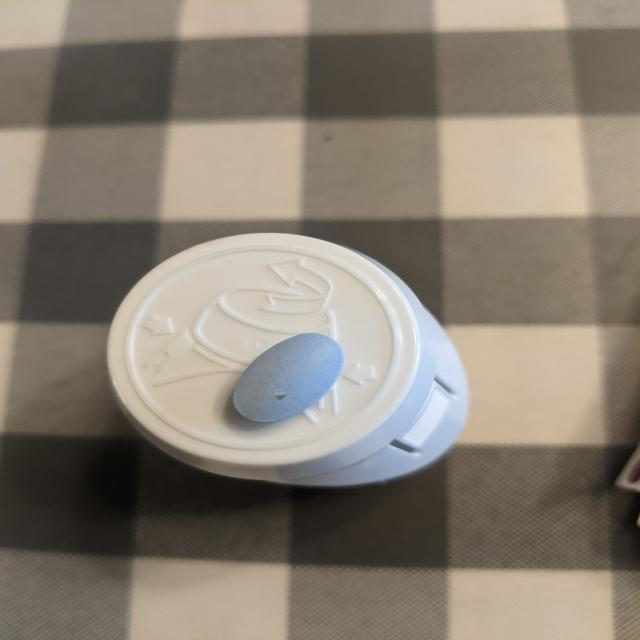non-organic waste: (231, 331, 346, 424)
